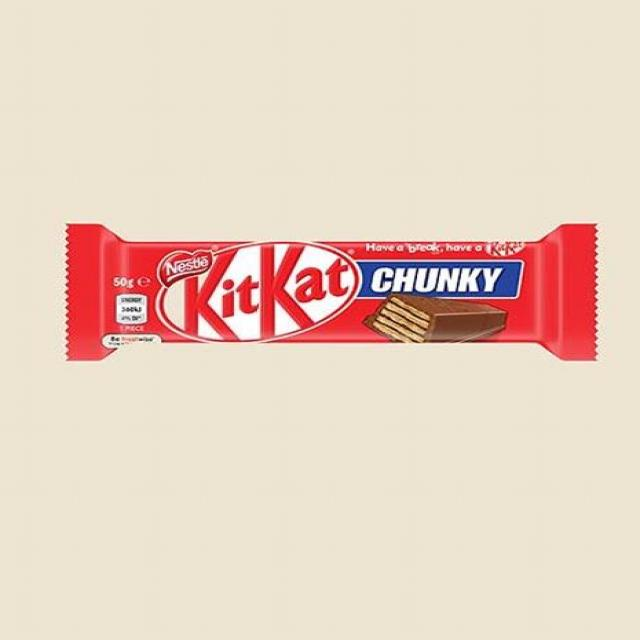kitkat: (62, 222, 594, 363)
